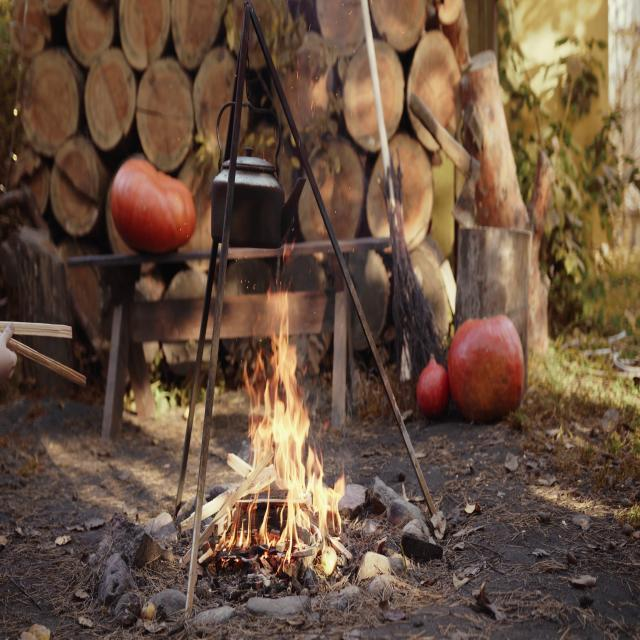Fire: (216, 282, 355, 582)
